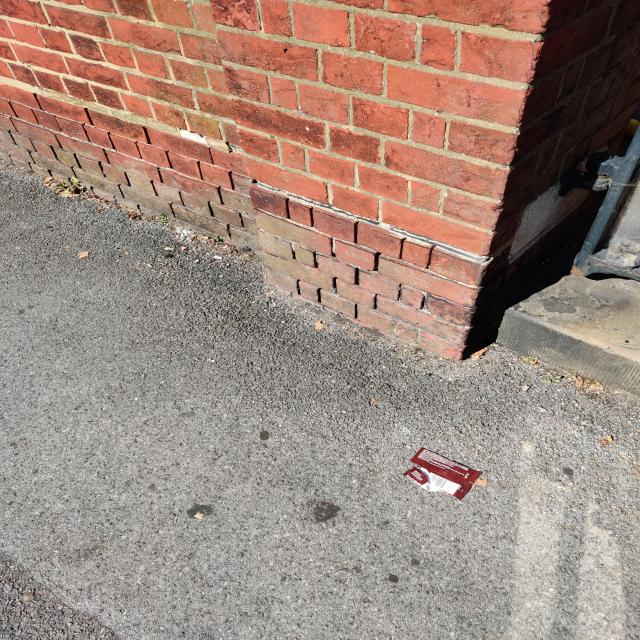litter: (399, 433, 492, 508)
